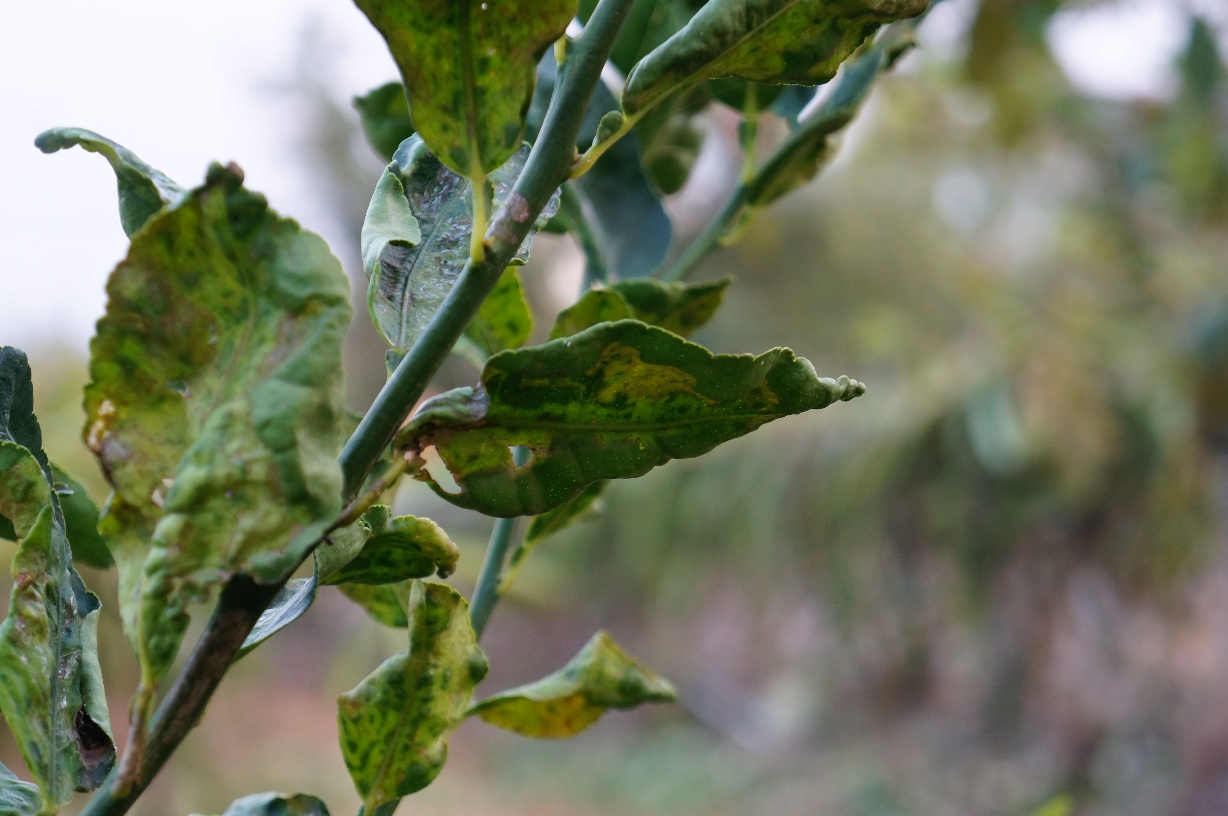damage: (374, 309, 876, 528), (0, 339, 121, 807), (619, 0, 948, 150), (340, 0, 585, 187), (329, 576, 501, 816)
